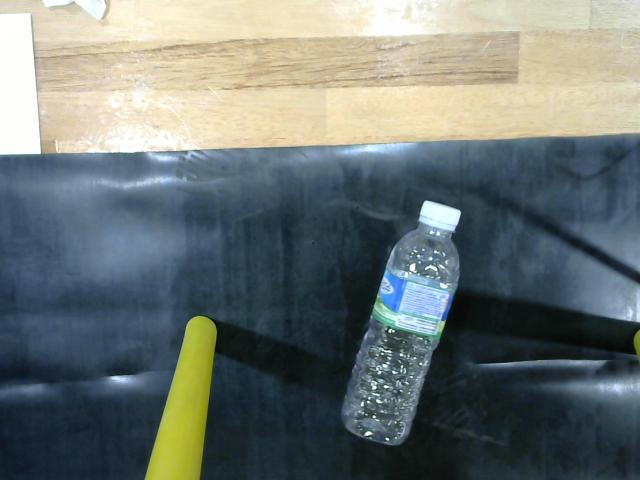bottle: (336, 194, 464, 452)
